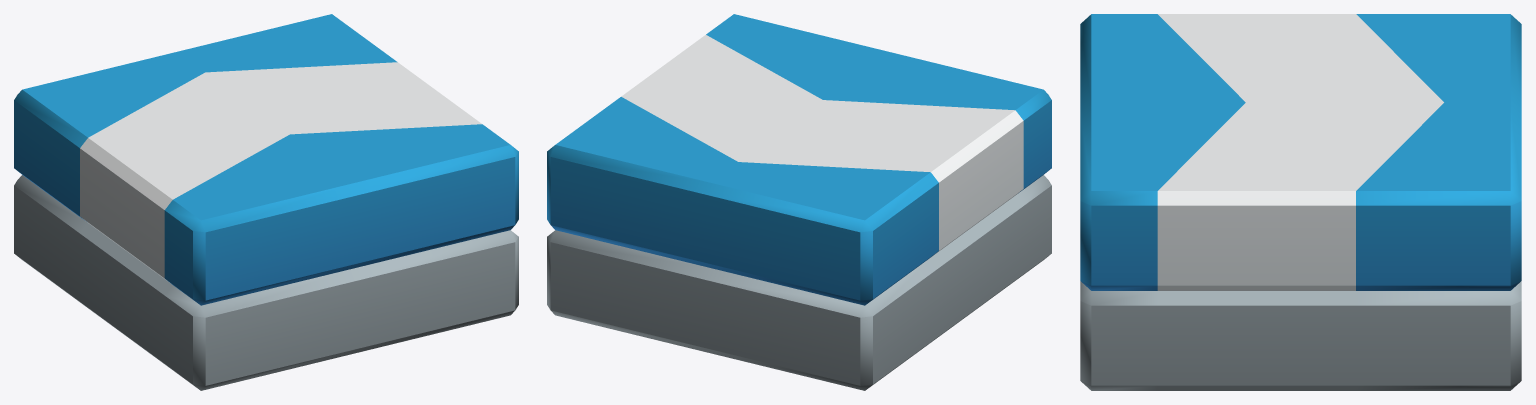
Rendered from platform_arrow_2x2x1_blue.glb.
The picture shows the model from 3 angles, left to right: view 1: azimuth 30°, elevation 25°; view 2: azimuth 150°, elevation 25°; view 3: azimuth 270°, elevation 25°; orthographic projection. The views are drawn at different scales.
Parts seen in each view (by area): view 1: platform_arrow_2x2x1_blue; view 2: platform_arrow_2x2x1_blue; view 3: platform_arrow_2x2x1_blue.
Part boxes in pixels (<box>): platform_arrow_2x2x1_blue: <box>14,14,518,390</box>; platform_arrow_2x2x1_blue: <box>547,14,1051,390</box>; platform_arrow_2x2x1_blue: <box>1080,14,1521,390</box>.
Bounding box in the file's own units: 2 × 1 × 2.
1 material, 1 textured.
